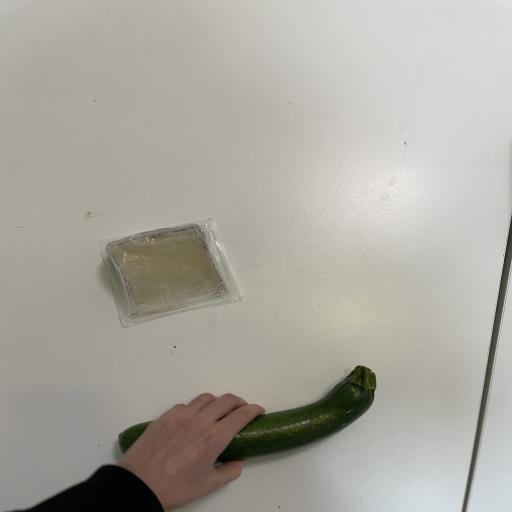courgette: (114, 360, 384, 468)
cured_goat_cheese: (100, 220, 241, 326)
